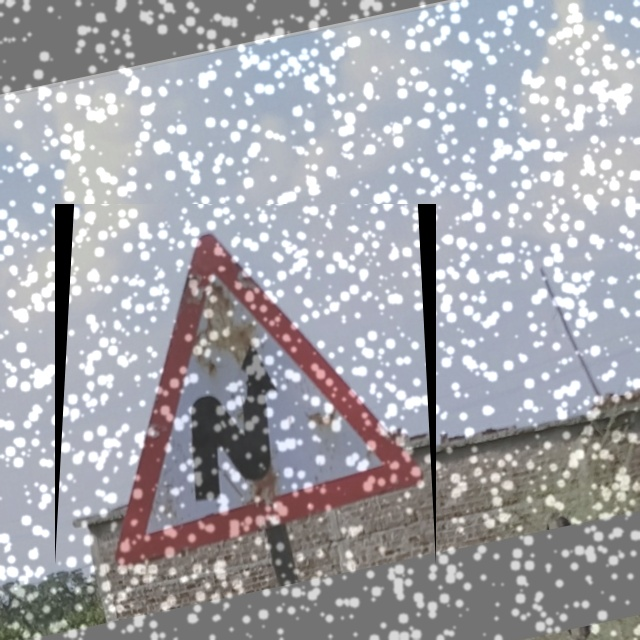Right_Reverse_Bend: (55, 204, 436, 565)
